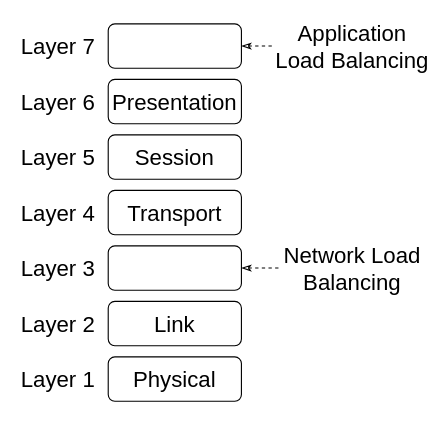
Image size: 448x421. Some labels were removed from this diagram. The box of each missing label's shape, as (x1, y1, x2, y2) in pixels:
Application: (107, 23, 241, 68)
Network: (107, 245, 241, 290)
